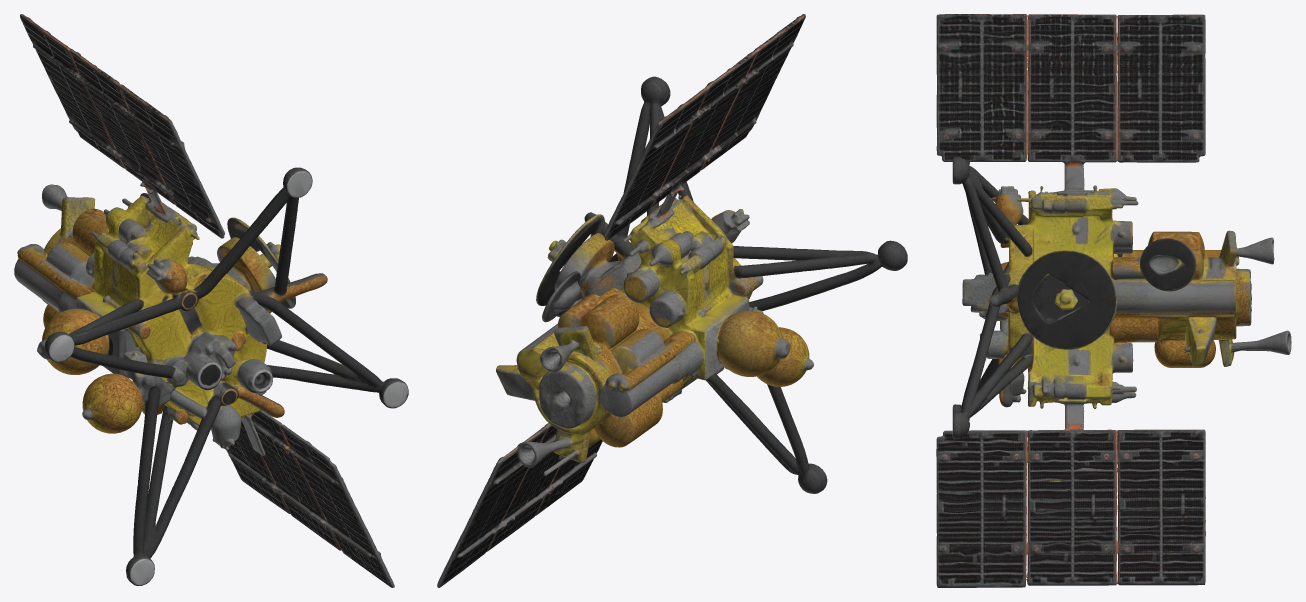
Rendered from mmx.glb.
3 views of the same model, side by side, from view 1: azimuth 30°, elevation 25°; view 2: azimuth 150°, elevation 25°; view 3: azimuth 270°, elevation 25° (orthographic). The views are drawn at different scales.
Bounding box in the file's own units: 0.6038 × 0.8369 × 0.5672.
1 material, 1 textured.
